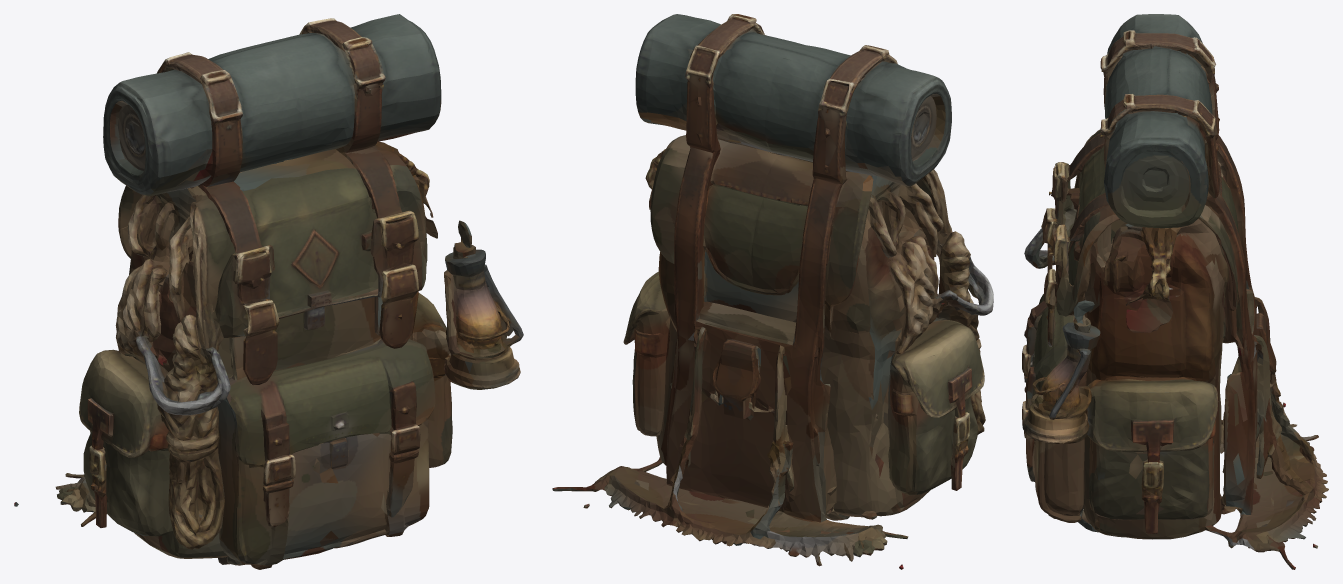
File: mochila_3.glb
3 renders of one model, left to right at view 1: azimuth 30°, elevation 25°; view 2: azimuth 150°, elevation 25°; view 3: azimuth 270°, elevation 25°, orthographic. The views are drawn at different scales.
Visible parts, largest first — view 1: geometry_0; view 2: geometry_0; view 3: geometry_0.
Part boxes in pixels (x1,y1,x2,y2): geometry_0: (14, 14, 523, 569); geometry_0: (552, 14, 993, 569); geometry_0: (1022, 14, 1328, 569).
Bounding box in the file's own units: 0.8304 × 0.9931 × 0.6404.
1 material, 1 textured.
